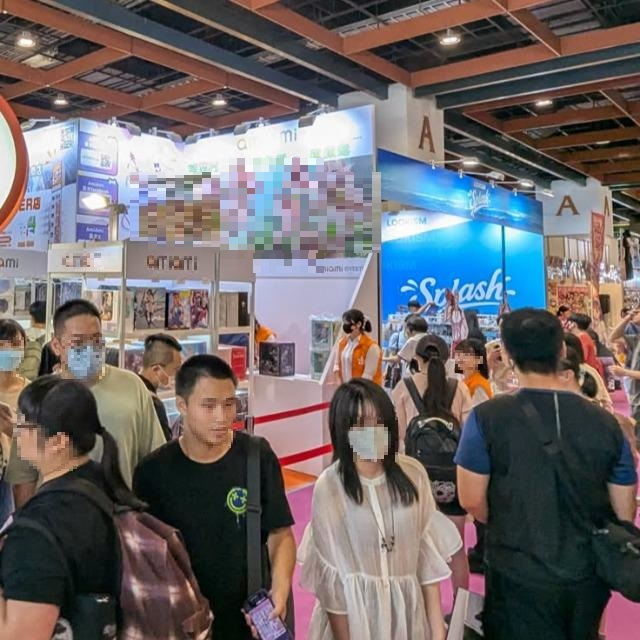NoHelmet: (174, 353, 241, 448), (52, 297, 109, 383)
NoVest: (139, 440, 298, 640), (301, 458, 443, 636)
